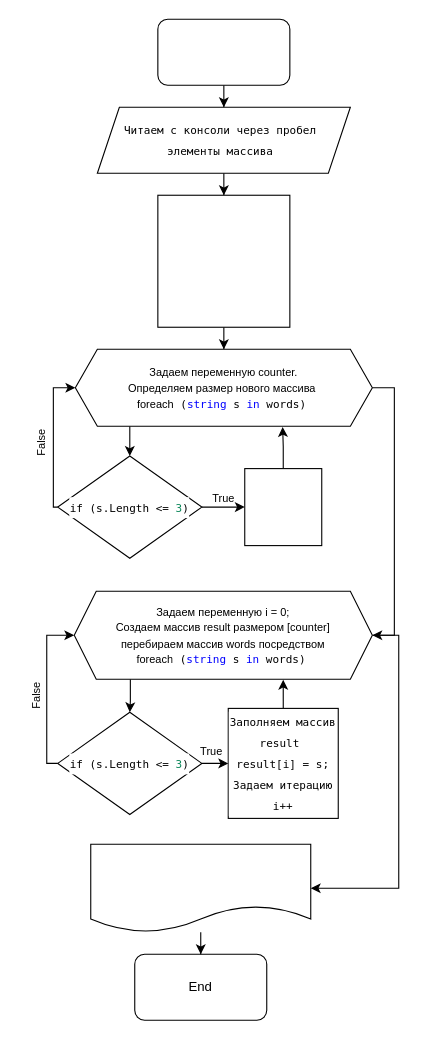
Some shapes in this 427 by 1040 pixel diagram are drawn without their labels. Here are the shapes that lost their labels. From the top down, the centre of each, then its label:
At (223,51): "Start".
At (223,260): "Помещаем все слова в массив words посредством phrase.Split( ' ' );".
At (283,507): "counter++".
At (200,887): "Выводим новый массив result".
